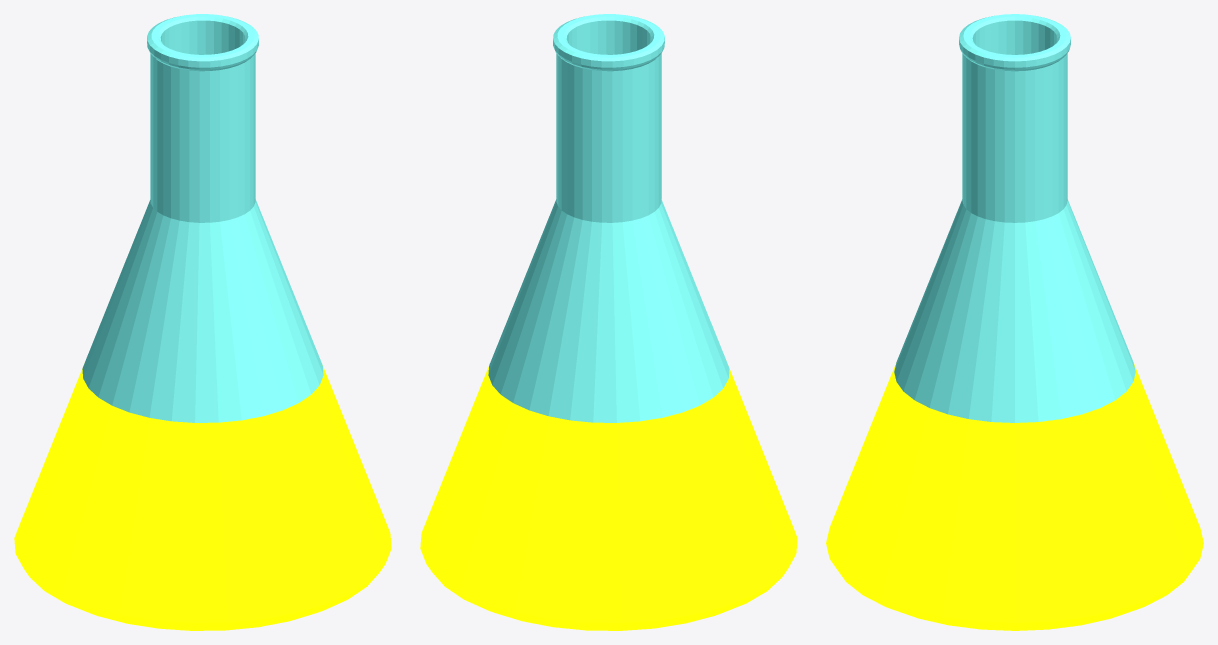
File: testtubeyellow.fbx
3 views of the same model, side by side, from view 1: azimuth 30°, elevation 25°; view 2: azimuth 150°, elevation 25°; view 3: azimuth 270°, elevation 25° (orthographic).
Parts seen in each view (by area): view 1: Cylinder.002; view 2: Cylinder.002; view 3: Cylinder.002.
Boxes of the visible parts, x1,y1,x2,y2 form: Cylinder.002: (14,14,391,630); Cylinder.002: (420,14,797,630); Cylinder.002: (826,14,1203,630).
Size of the model in its own units: 200 by 305 by 200.
